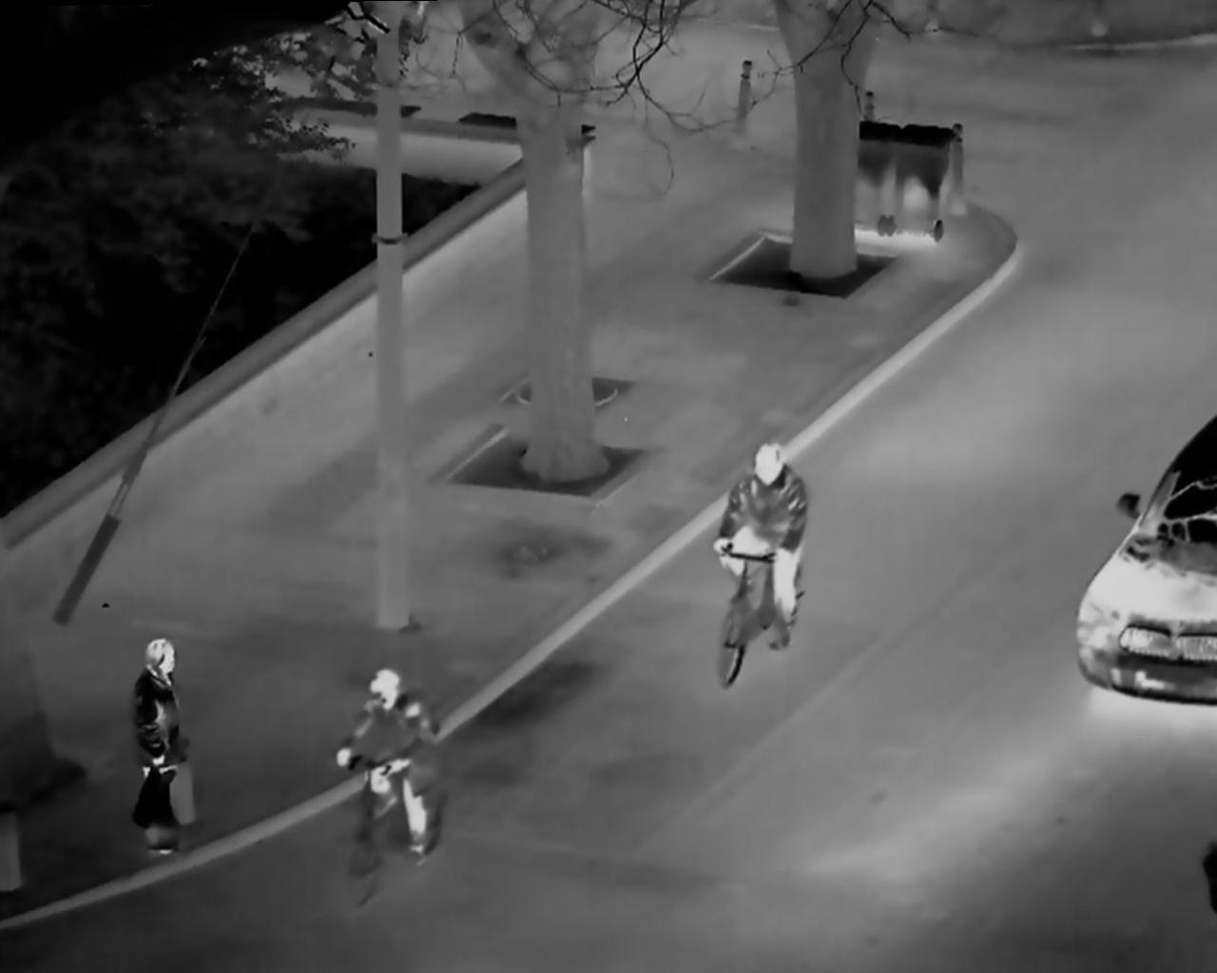person: (333, 652, 462, 914), (704, 426, 819, 703), (118, 629, 204, 873)
